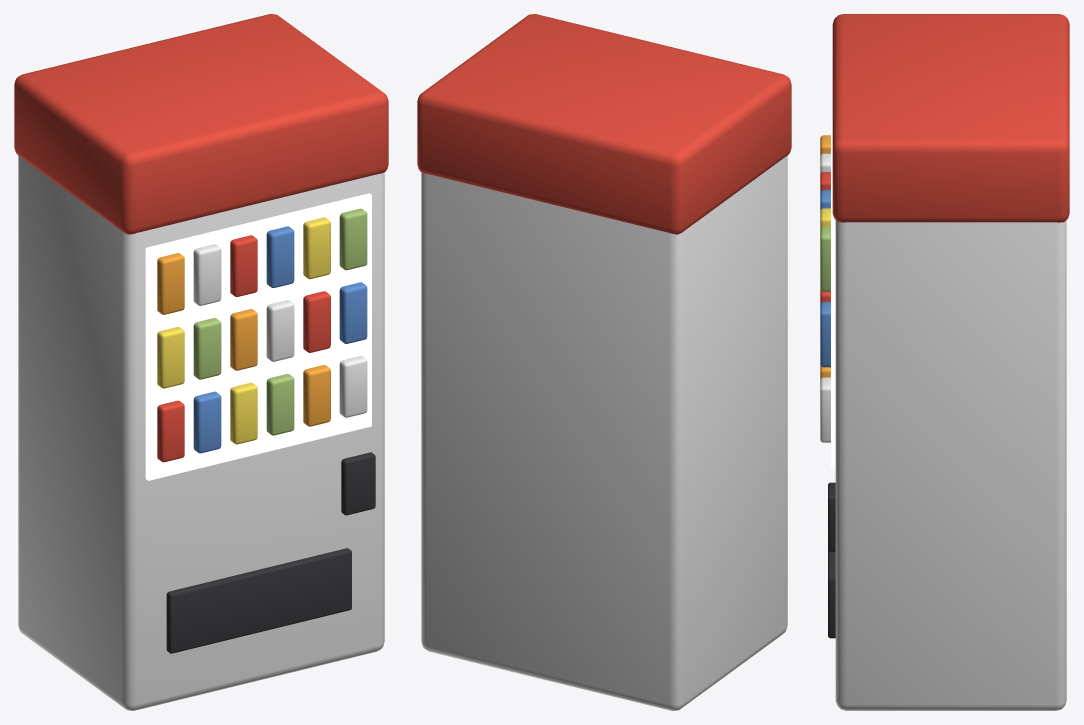
The model's file is jihanki.glb.
3 renders of one model, left to right at view 1: azimuth 30°, elevation 25°; view 2: azimuth 150°, elevation 25°; view 3: azimuth 270°, elevation 25°, orthographic. The views are drawn at different scales.
Parts seen in each view (by area): view 1: jihanki; view 2: jihanki; view 3: jihanki.
Boxes of the visible parts, <box> form: jihanki: <box>14,14,388,710</box>; jihanki: <box>417,14,791,710</box>; jihanki: <box>820,14,1069,710</box>.
Bounding box in the file's own units: 1.02 × 2.05 × 0.81.
